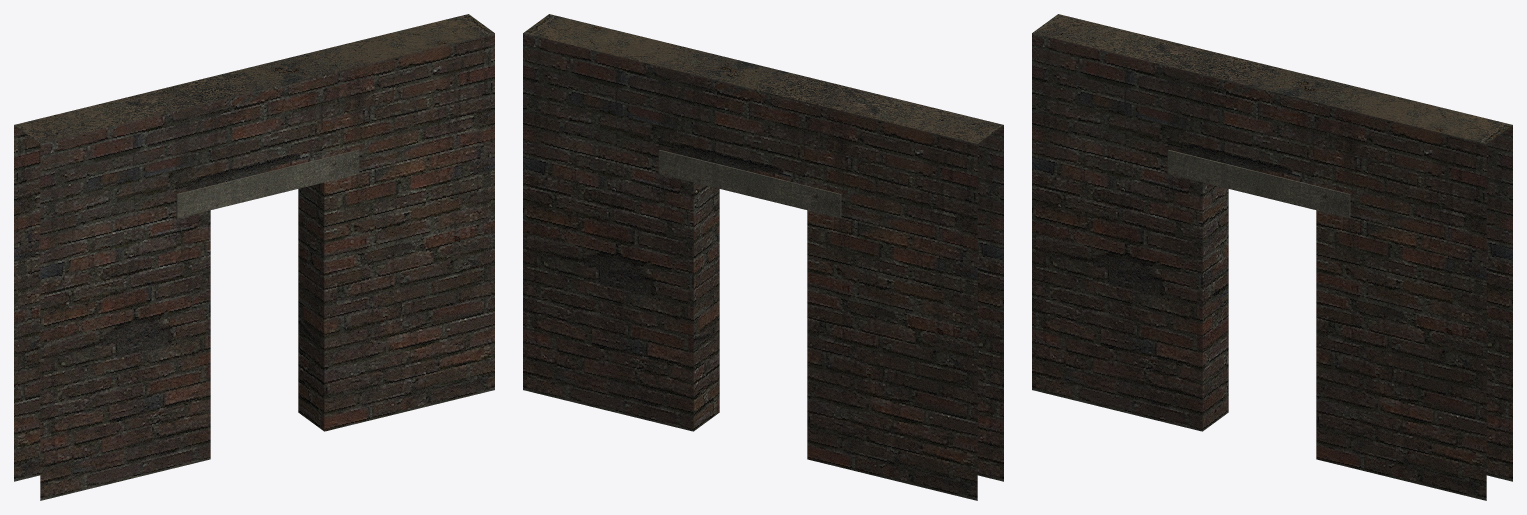
Rendered from doorway_hs_1_regular.glb.
3 renders of one model, left to right at view 1: azimuth 30°, elevation 25°; view 2: azimuth 150°, elevation 25°; view 3: azimuth 330°, elevation 25°, orthographic.
Visible parts, largest first — view 1: doorway_hs_1_regular; view 2: doorway_hs_1_regular; view 3: doorway_hs_1_regular.
Boxes of the visible parts, x1,y1,x2,y2 form: doorway_hs_1_regular: (14,14,494,500); doorway_hs_1_regular: (523,14,1003,500); doorway_hs_1_regular: (1032,14,1512,500).
Size of the model in its own units: 4 by 3 by 0.42.
3 materials, 3 textured.
